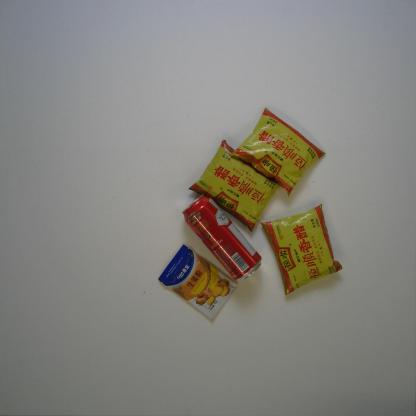Alcohol: (180, 193, 263, 283)
Seasoner: (187, 138, 286, 234), (230, 105, 327, 199), (260, 201, 343, 296), (157, 243, 239, 319)
